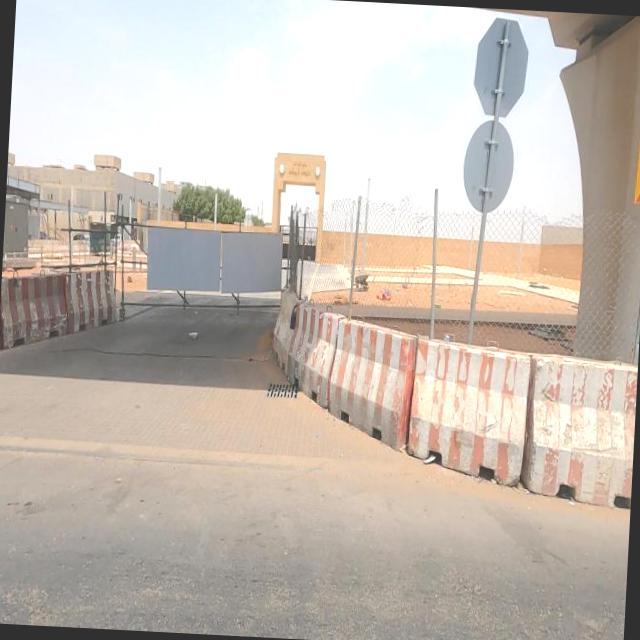debris: (166, 295, 226, 372)
